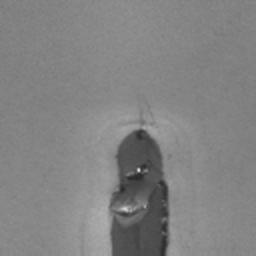Slag inclusion: (109, 128, 170, 256)
